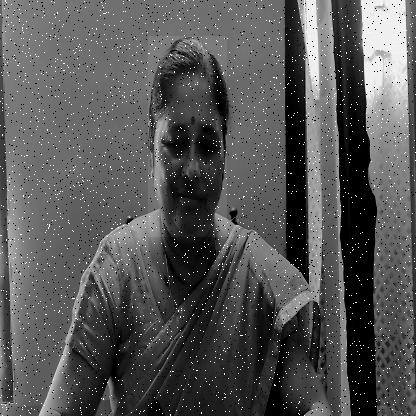Normal: (148, 36, 227, 237)
